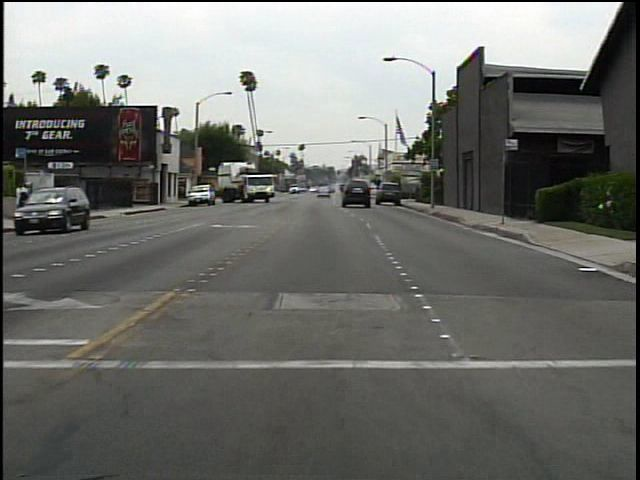person: (14, 176, 34, 204)
